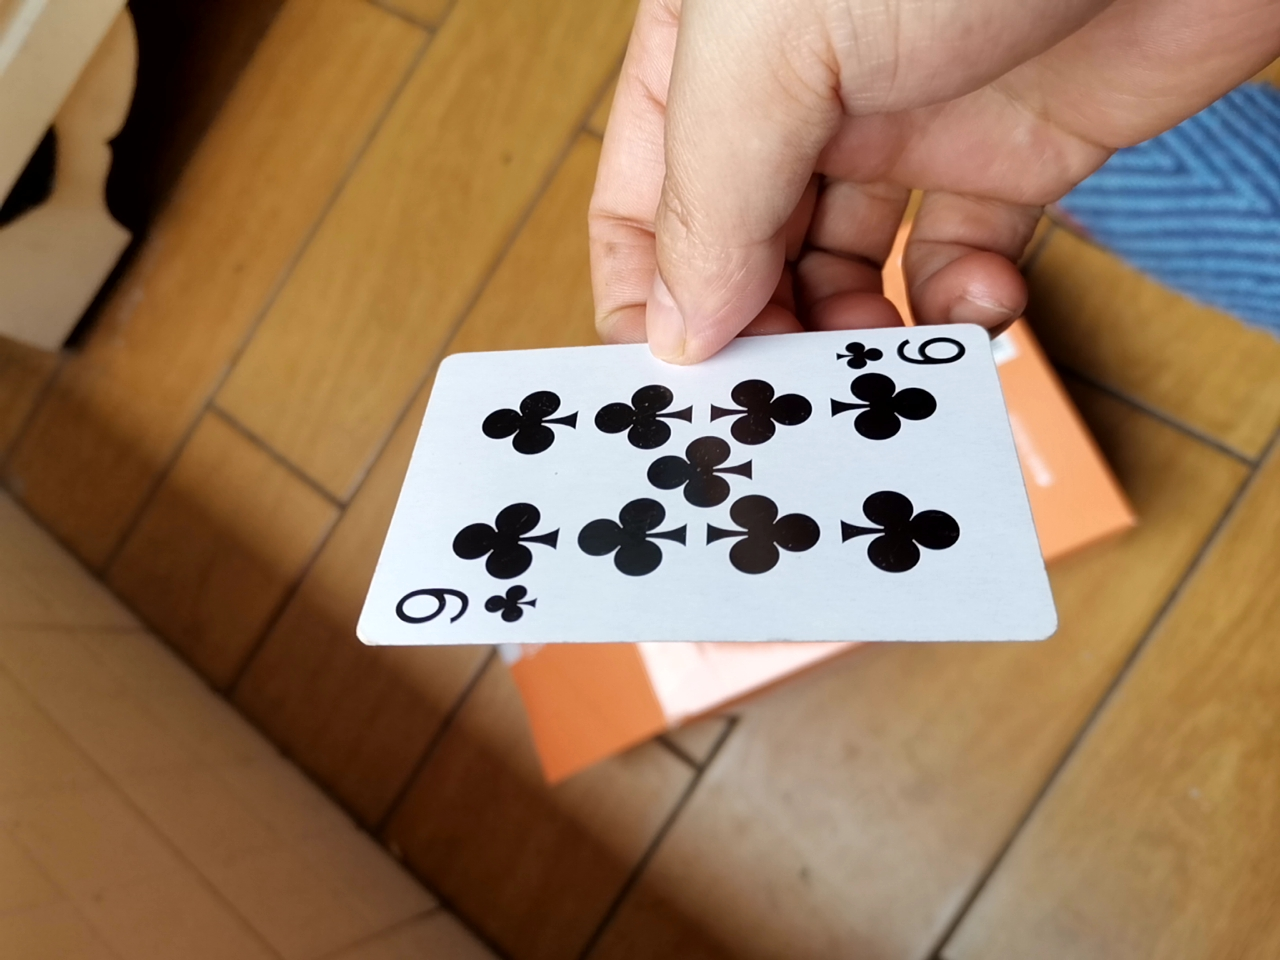mh 9: (345, 312, 1053, 687)
